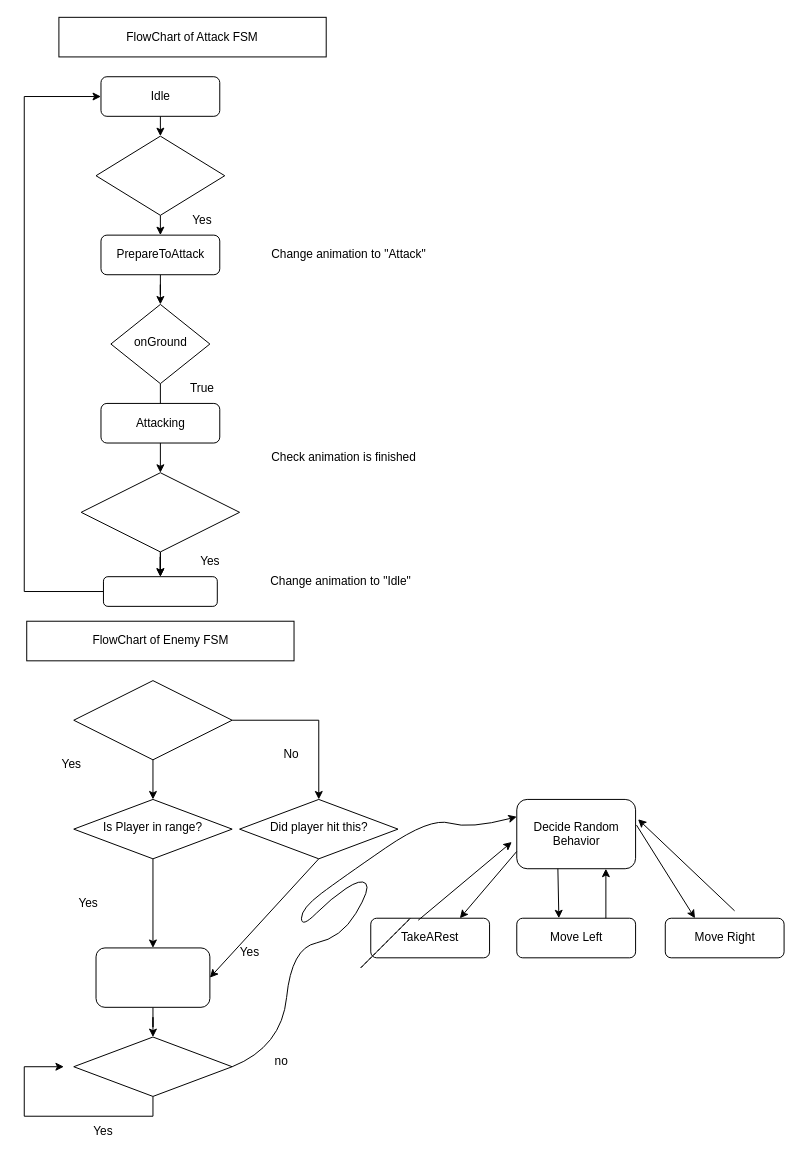
This 802x1163 diagram has some shape labels left out. Each missing label, with the box of its shape:
Attack Key Input: (95, 135, 225, 215)
Attacked: (102, 576, 217, 606)
Follow Target: (95, 947, 210, 1007)
is animation finished?: (80, 472, 240, 552)
Is AutoFollow On?: (73, 680, 232, 760)
Is P{layer in range?: (73, 1036, 232, 1096)
